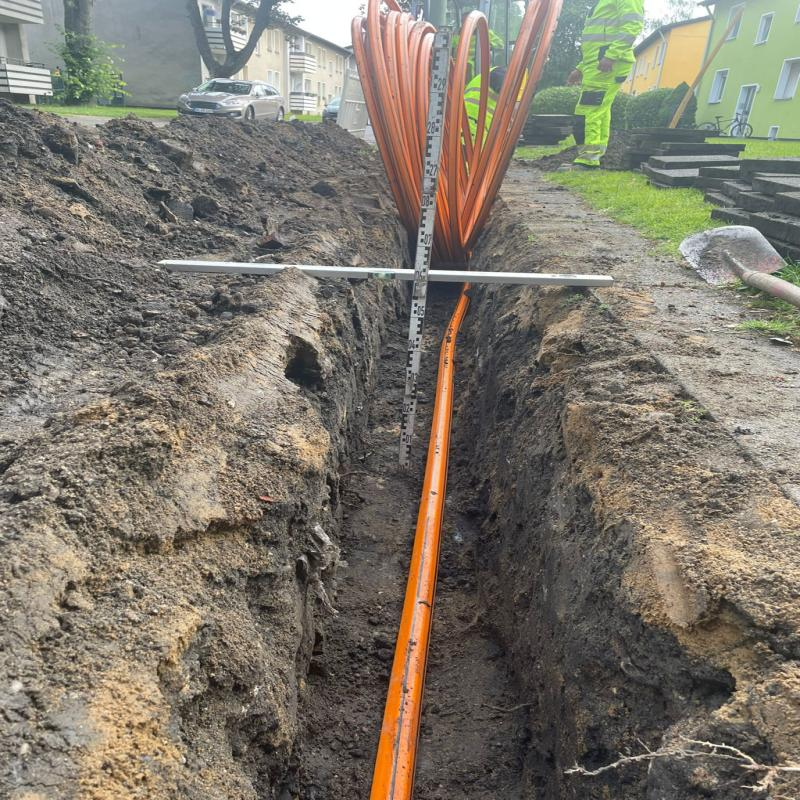Orang-Speednetrohrchen: (370, 299, 467, 800), (432, 0, 562, 270), (351, 0, 436, 251)
